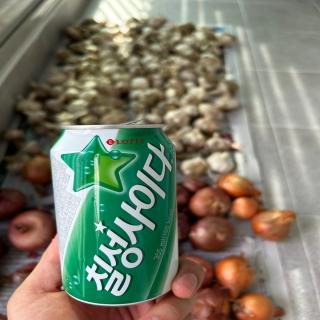chilsung: (47, 122, 181, 308)
